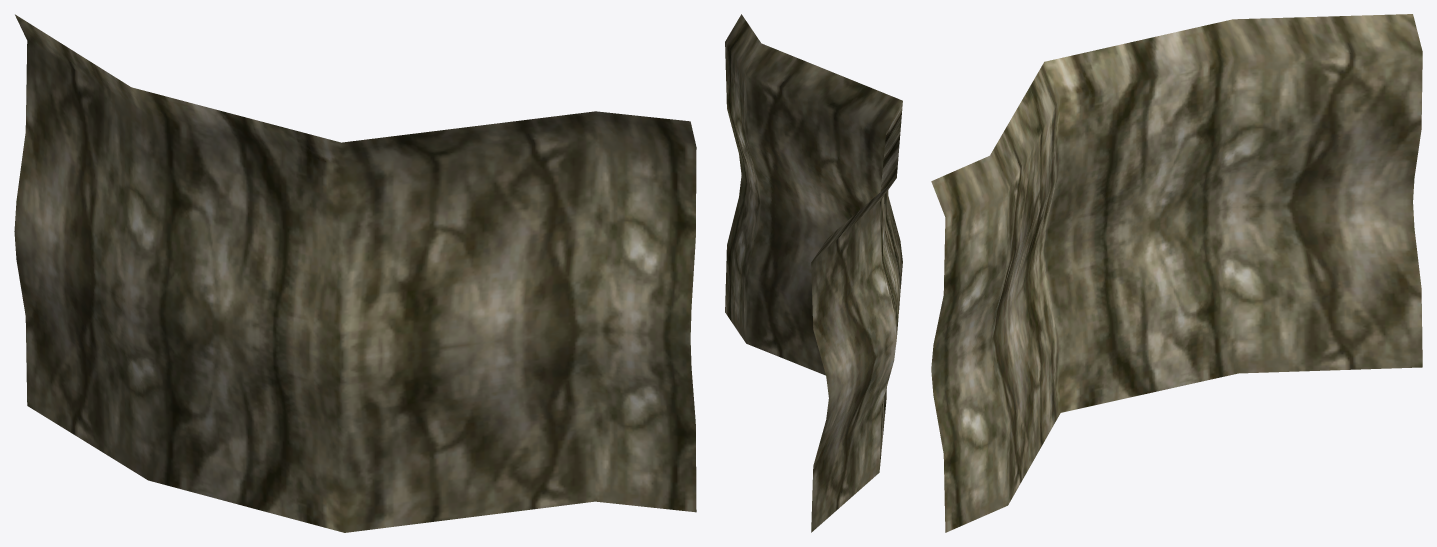
Rendered from CB_NEWPLAYSURFACE_CB_PLAYSURFACE41.fbx.
3 views of the same model, side by side, from view 1: azimuth 30°, elevation 25°; view 2: azimuth 150°, elevation 25°; view 3: azimuth 270°, elevation 25° (orthographic). The views are drawn at different scales.
Parts seen in each view (by area): view 1: CB_NEWPLAYSURFACE_CB_PLAYSURFACE41; view 2: CB_NEWPLAYSURFACE_CB_PLAYSURFACE41; view 3: CB_NEWPLAYSURFACE_CB_PLAYSURFACE41.
Part boxes in pixels (x1=…): CB_NEWPLAYSURFACE_CB_PLAYSURFACE41: x1=14, y1=14, x2=696, y2=532; CB_NEWPLAYSURFACE_CB_PLAYSURFACE41: x1=725, y1=14, x2=902, y2=532; CB_NEWPLAYSURFACE_CB_PLAYSURFACE41: x1=931, y1=14, x2=1422, y2=532.
Size of the model in its own units: 79031 by 73541 by 94754.
1 material, 1 textured.
